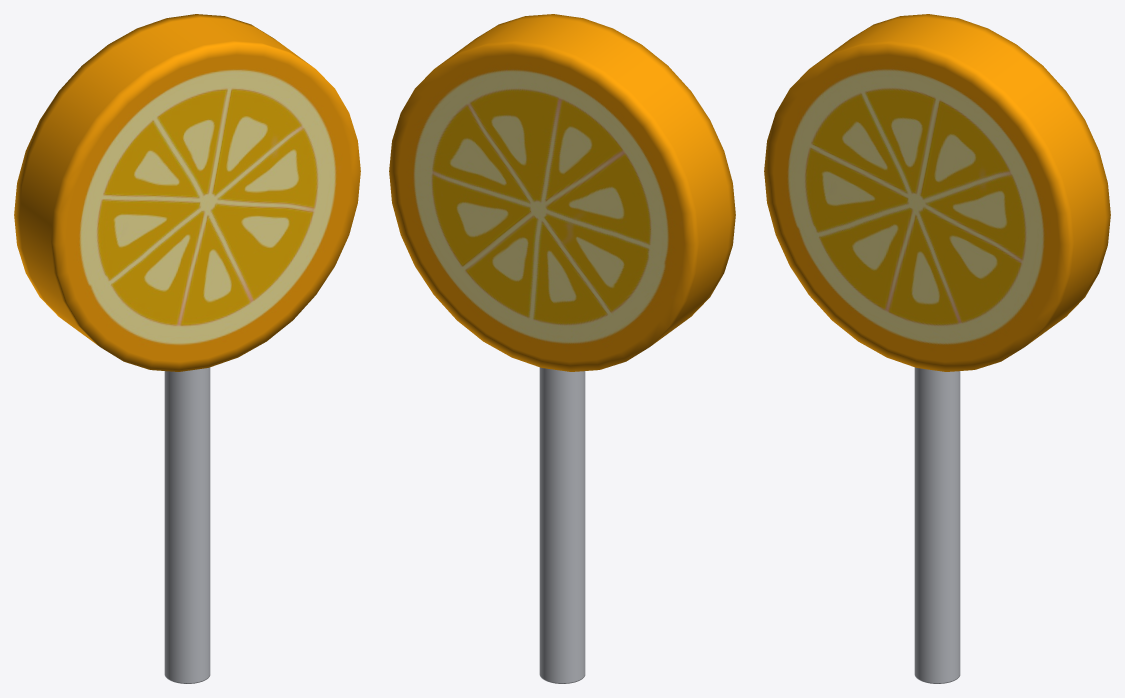
File: lollipop_trap1.fbx
3 views of the same model, side by side, from view 1: azimuth 30°, elevation 25°; view 2: azimuth 150°, elevation 25°; view 3: azimuth 330°, elevation 25° (orthographic).
Visible parts, largest first — view 1: lollipop_trap1; view 2: lollipop_trap1; view 3: lollipop_trap1.
Part boxes in pixels (x1=…): lollipop_trap1: x1=14, y1=14, x2=360, y2=683; lollipop_trap1: x1=389, y1=14, x2=735, y2=683; lollipop_trap1: x1=764, y1=14, x2=1110, y2=683.
Size of the model in its own units: 1.82 by 3.65 by 0.4327.
Materials: 2 (2 with a texture image).
